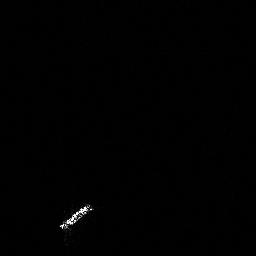ship: (58, 199, 94, 233)
